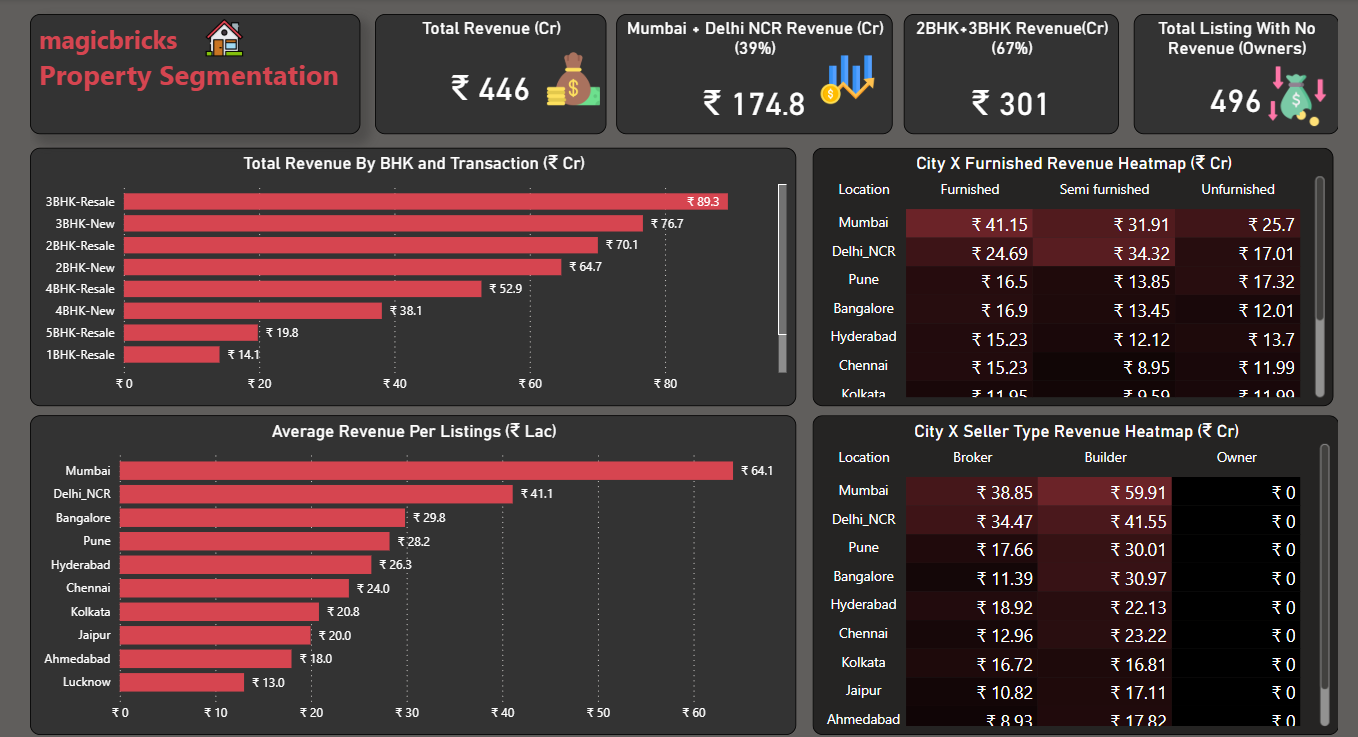

What the dashboard file says about the page in this screenshot:
{"tool":"powerbi","page":{"name":"Dashboard-1","canvas":[1280,720],"ordinal":0},"visuals":[{"type":"clusteredBarChart","title":"Average Revenue Per Listings (₹ Lac)","fields":{"Category":["MB.Location"],"Y":["MB.Average Revenue"]},"box":[0,407.2,749.6,313],"z":0},{"type":"clusteredBarChart","title":"Total Revenue By BHK and Transaction (₹ Cr)","fields":{"Category":["MB.BHK_Transaction"],"Y":["MB.Total Revenue"]},"box":[0,145.5,749.6,253.1],"z":1000},{"type":"cardVisual","title":"Total Revenue (Cr)","fields":{"Data":["MB.Total Comission"]},"box":[337.5,14.7,226.2,117.4],"z":2000},{"type":"cardVisual","title":"Mumbai + Delhi NCR Revenue  (Cr)  (39%)","fields":{"Data":["MB.Mumbai_Delhi_Revenue"]},"box":[573.5,14.7,270.2,117.4],"z":3000},{"type":"cardVisual","title":"2BHK+3BHK Revenue(Cr) (67%)","fields":{"Data":["MB.Revenue_3BHK_2BHK"]},"box":[854.8,14.7,210.3,117.4],"z":4000},{"type":"textbox","box":[0,14.7,322.8,117.4],"z":5000},{"type":"cardVisual","title":"Total Listing With No Revenue (Owners)","fields":{"Data":["MB.Free_Owner_Count"]},"box":[1079.8,14.7,200.5,117.4],"z":6000},{"type":"image","box":[490.4,46.5,83.2,63.6],"z":6001},{"type":"pivotTable","title":"City X Furnished Revenue Heatmap (₹ Cr)","fields":{"Rows":["MB.Location"],"Values":["MB.Total Revenue"],"Columns":["MB.Furnished"]},"box":[765.5,145.5,509.9,253.1],"z":6002},{"type":"pivotTable","title":"City X Seller Type Revenue Heatmap (₹ Cr)","fields":{"Values":["MB.Total Revenue"],"Columns":["MB.Seller_Type"],"Rows":["MB.Location"]},"box":[765.5,407.2,514.8,313],"z":6003},{"type":"image","box":[114.9,14.7,150.4,46.5],"z":6004},{"type":"image","box":[1203.3,61.1,72.1,68.5],"z":6005},{"type":"image","box":[755.7,47.7,88,62.4],"z":6006}]}

Visuals, with their boxes on the page's 1280x720 design canvas (x1, y1, x2, y2). These are canvas units, not pixel positions in the 1358x737 screenshot, which may show the page scaled, cropped or inside an application window:
"Average Revenue Per Listings (₹ Lac)" clusteredBarChart: 0,407,750,720
"Total Revenue By BHK and Transaction (₹ Cr)" clusteredBarChart: 0,146,750,399
"Total Revenue (Cr)" cardVisual: 338,15,564,132
"Mumbai + Delhi NCR Revenue  (Cr)  (39%)" cardVisual: 574,15,844,132
"2BHK+3BHK Revenue(Cr) (67%)" cardVisual: 855,15,1065,132
textbox: 0,15,323,132
"Total Listing With No Revenue (Owners)" cardVisual: 1080,15,1280,132
image: 490,46,574,110
"City X Furnished Revenue Heatmap (₹ Cr)" pivotTable: 766,146,1275,399
"City X Seller Type Revenue Heatmap (₹ Cr)" pivotTable: 766,407,1280,720
image: 115,15,265,61
image: 1203,61,1275,130
image: 756,48,844,110
